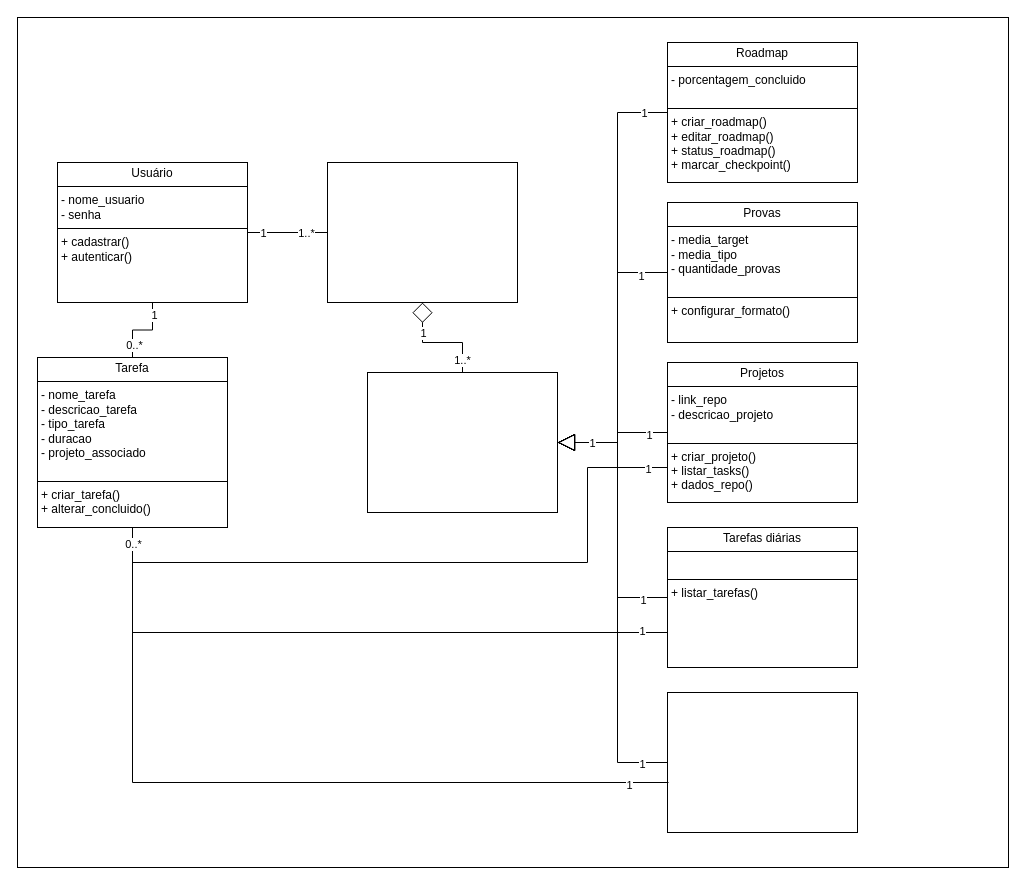
The diagram is 1026 pixels wide and 885 high, and some of its shapes have lost their labels. The shapes that lost their labels are listed below. From the top down, each one's centre as x and y in pixels, then its label:
At point 422,232: "Tema - nome_tema + criar_tema() + selecionar_tema()".
At point 462,442: "Modulos - nome_modulo - tema_associado".
At point 762,762: "Agenda - mes_alvo + mostrar_agenda()".
